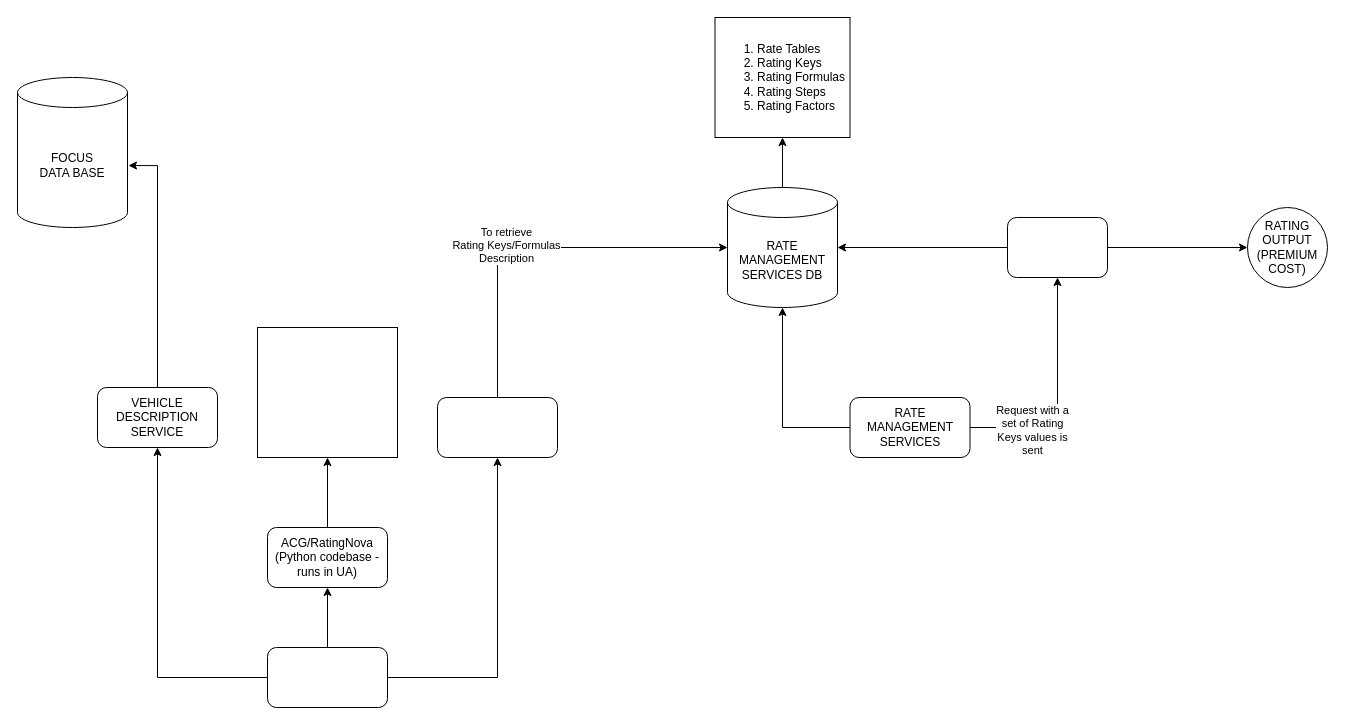
Image size: 1345x725. Some labels were removed from this diagram. Each missing label, with the centre of its shape:
"FOCUS (ACG/Rating) devfocus.allstate.ca" goes at point (327, 677).
"RATE ENGINE" goes at point (1057, 247).
"RATING LOOKUP SERVICE" goes at point (497, 427).
